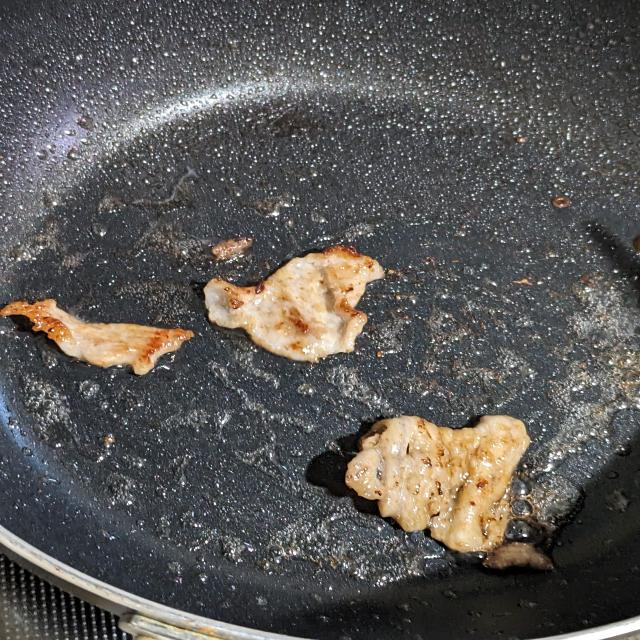OK cooked pork,: (329, 408, 564, 593), (198, 235, 400, 372), (0, 293, 204, 380)
